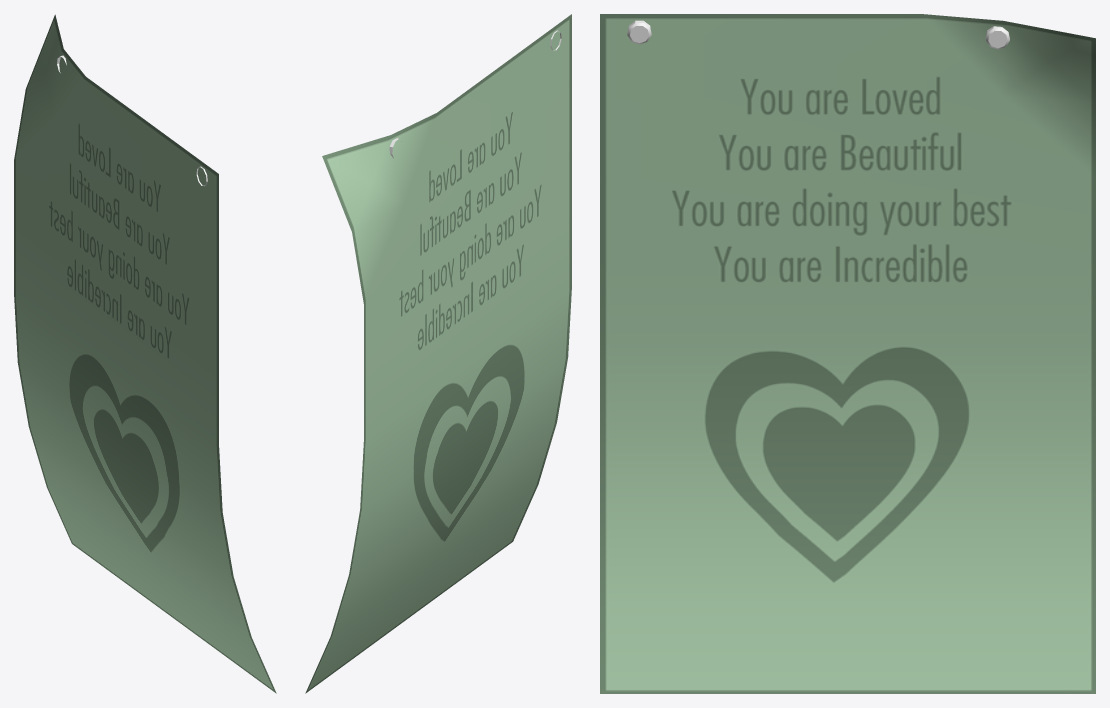
File: SM_Poster03.fbx
3 views of the same model, side by side, from view 1: azimuth 30°, elevation 25°; view 2: azimuth 150°, elevation 25°; view 3: azimuth 270°, elevation 25° (orthographic). The views are drawn at different scales.
Visible parts, largest first — view 1: Poster03; view 2: Poster03; view 3: Poster03.
Boxes of the visible parts, x1=… form: Poster03: x1=14, y1=14, x2=276, y2=693; Poster03: x1=305, y1=14, x2=571, y2=693; Poster03: x1=600, y1=14, x2=1095, y2=693.
Size of the model in its own units: 10.98 by 94.86 by 65.99.
Materials: 1 (1 with a texture image).
